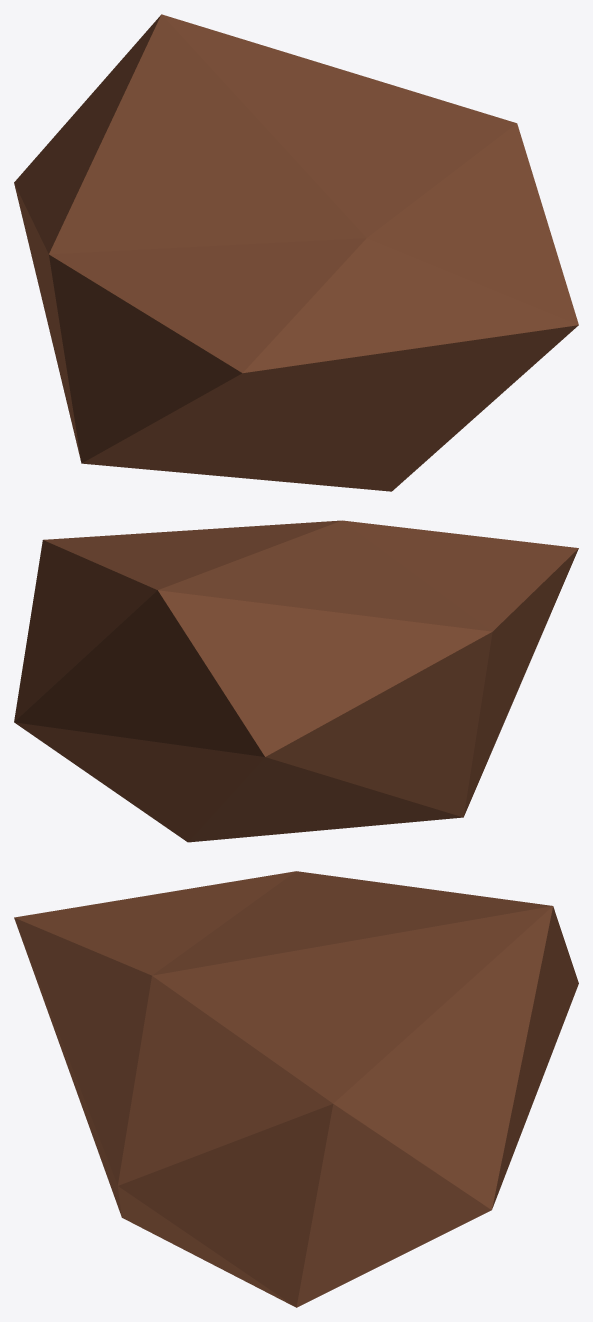
Rendered from piedra.dae.
The picture shows the model from 3 angles, top to bottom: view 1: azimuth 30°, elevation 25°; view 2: azimuth 150°, elevation 25°; view 3: azimuth 270°, elevation 25°; orthographic projection. The views are drawn at different scales.
Parts seen in each view (by area): view 1: Icosphere; view 2: Icosphere; view 3: Icosphere.
Boxes of the visible parts, x1,y1,x2,y2 form: Icosphere: (14,14,578,491); Icosphere: (14,520,578,842); Icosphere: (14,871,578,1307).
Size of the model in its own units: 2.07 by 1.99 by 1.2.
